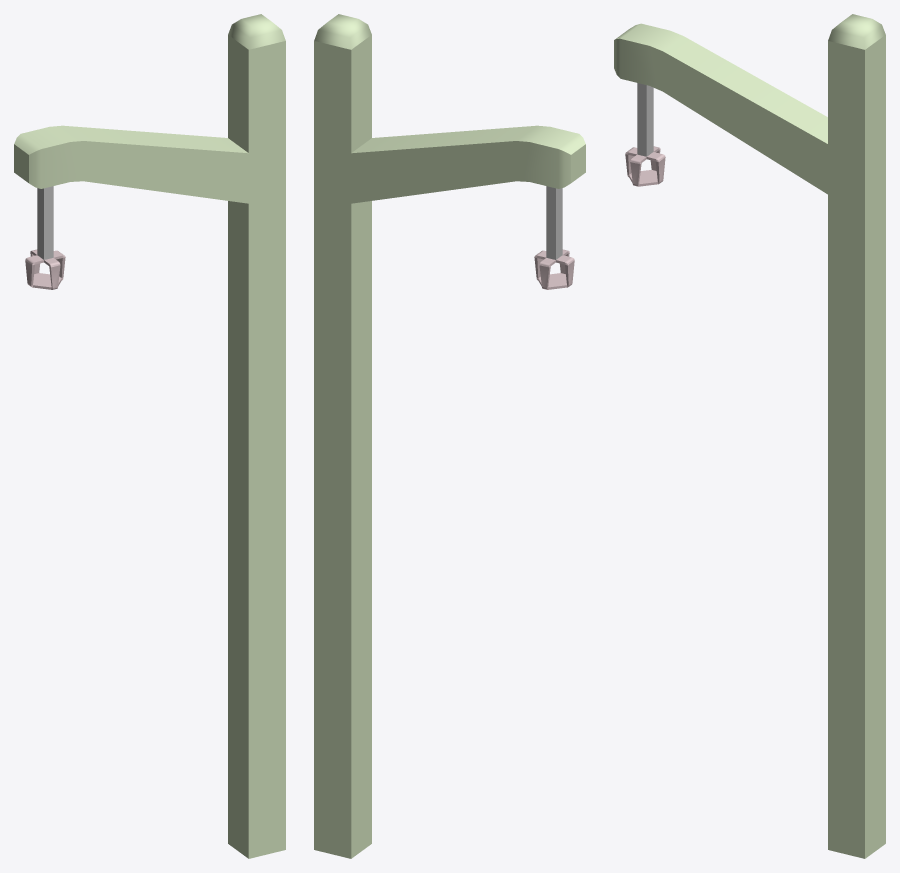
The model's file is Lamppost.fbx.
3 views of the same model, side by side, from view 1: azimuth 30°, elevation 25°; view 2: azimuth 150°, elevation 25°; view 3: azimuth 330°, elevation 25° (orthographic).
Parts seen in each view (by area): view 1: Box001; view 2: Box001; view 3: Box001.
Boxes of the visible parts, box(x1,y1,x2,y2) form: Box001: box(14, 14, 285, 858); Box001: box(314, 14, 585, 858); Box001: box(614, 14, 885, 858).
Size of the model in its own units: 35.81 by 111 by 5.08.
